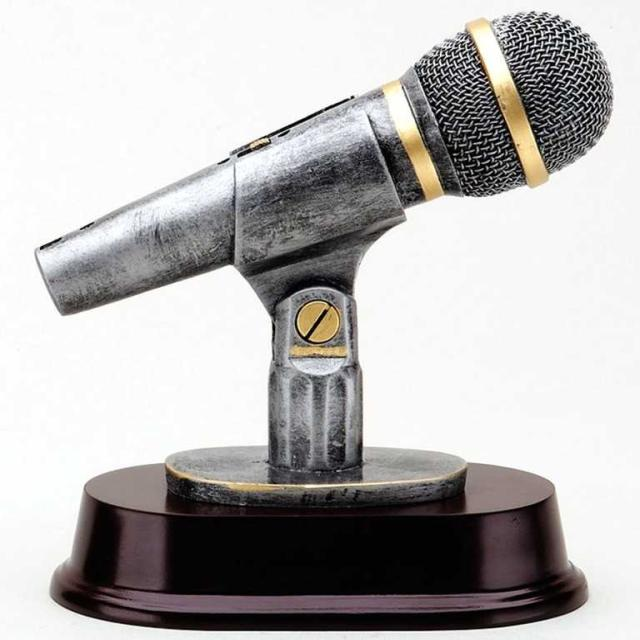microphone: (42, 12, 605, 309)
